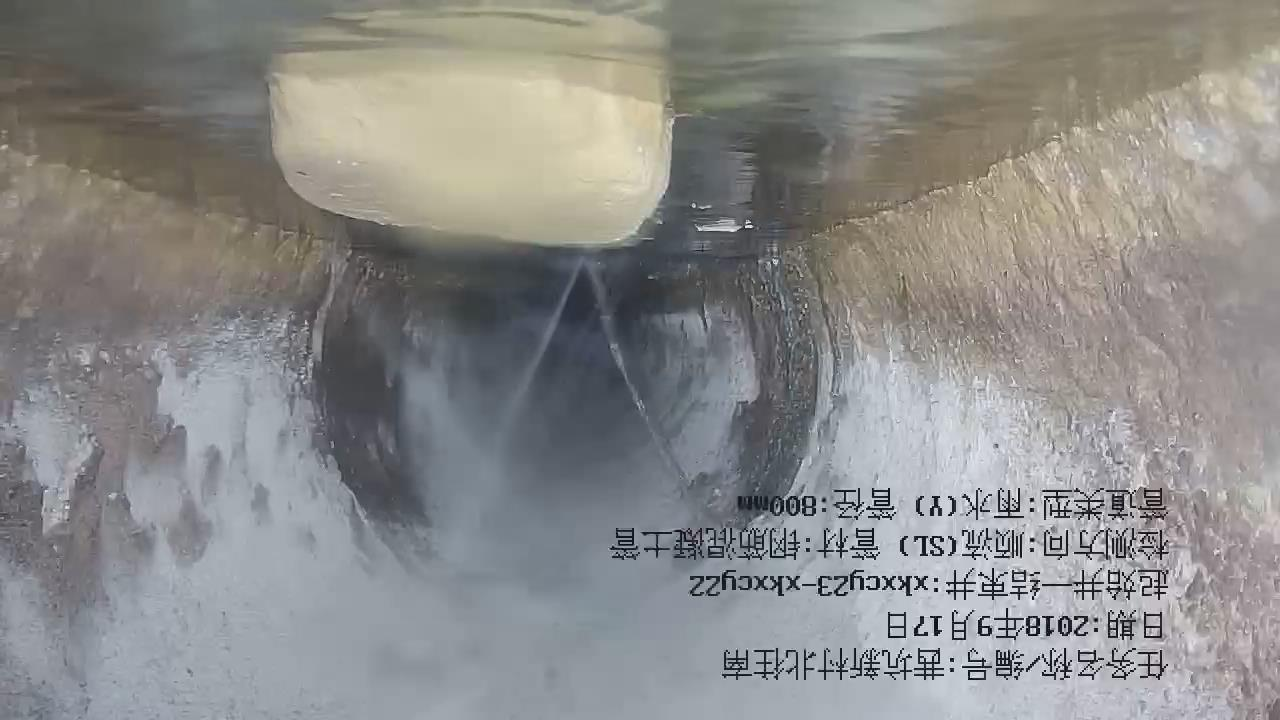SL: (386, 250, 732, 573)
ZAW: (268, 47, 675, 247)
